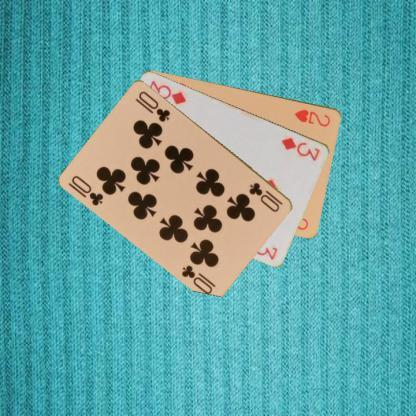10c: (68, 172, 106, 208), (246, 180, 284, 214)
2h: (292, 106, 332, 128)
3d: (279, 134, 323, 162)
